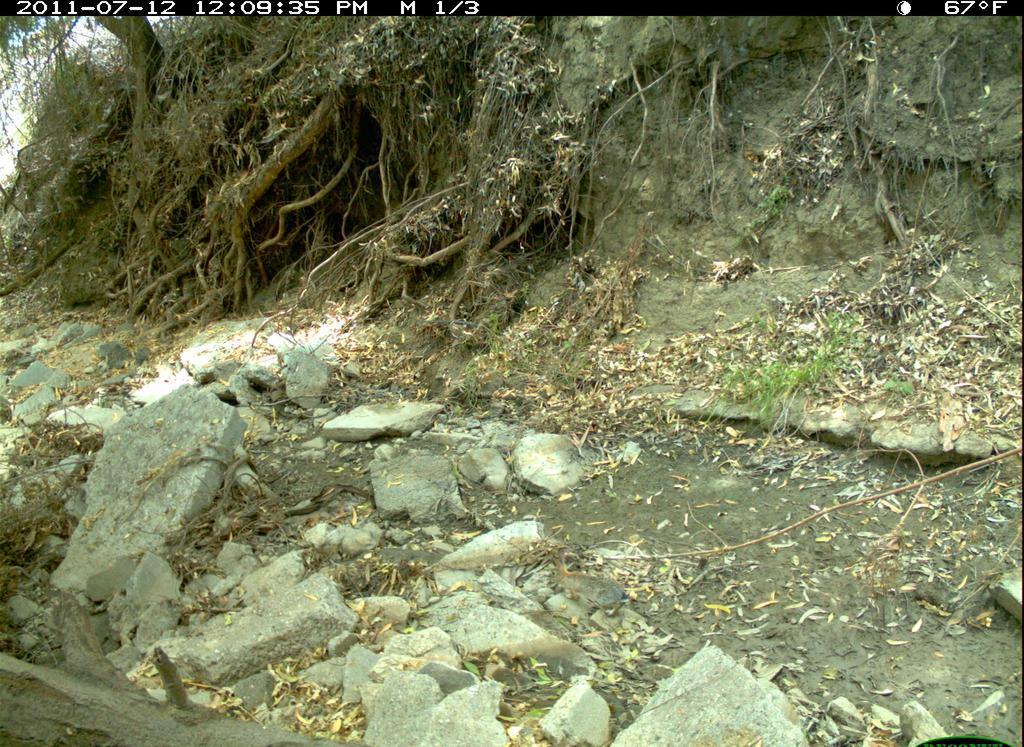rabbit: (548, 539, 643, 632)
